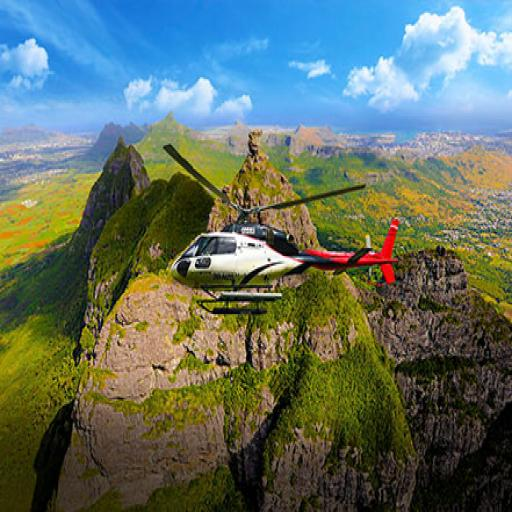helicopter: (167, 160, 403, 328)
